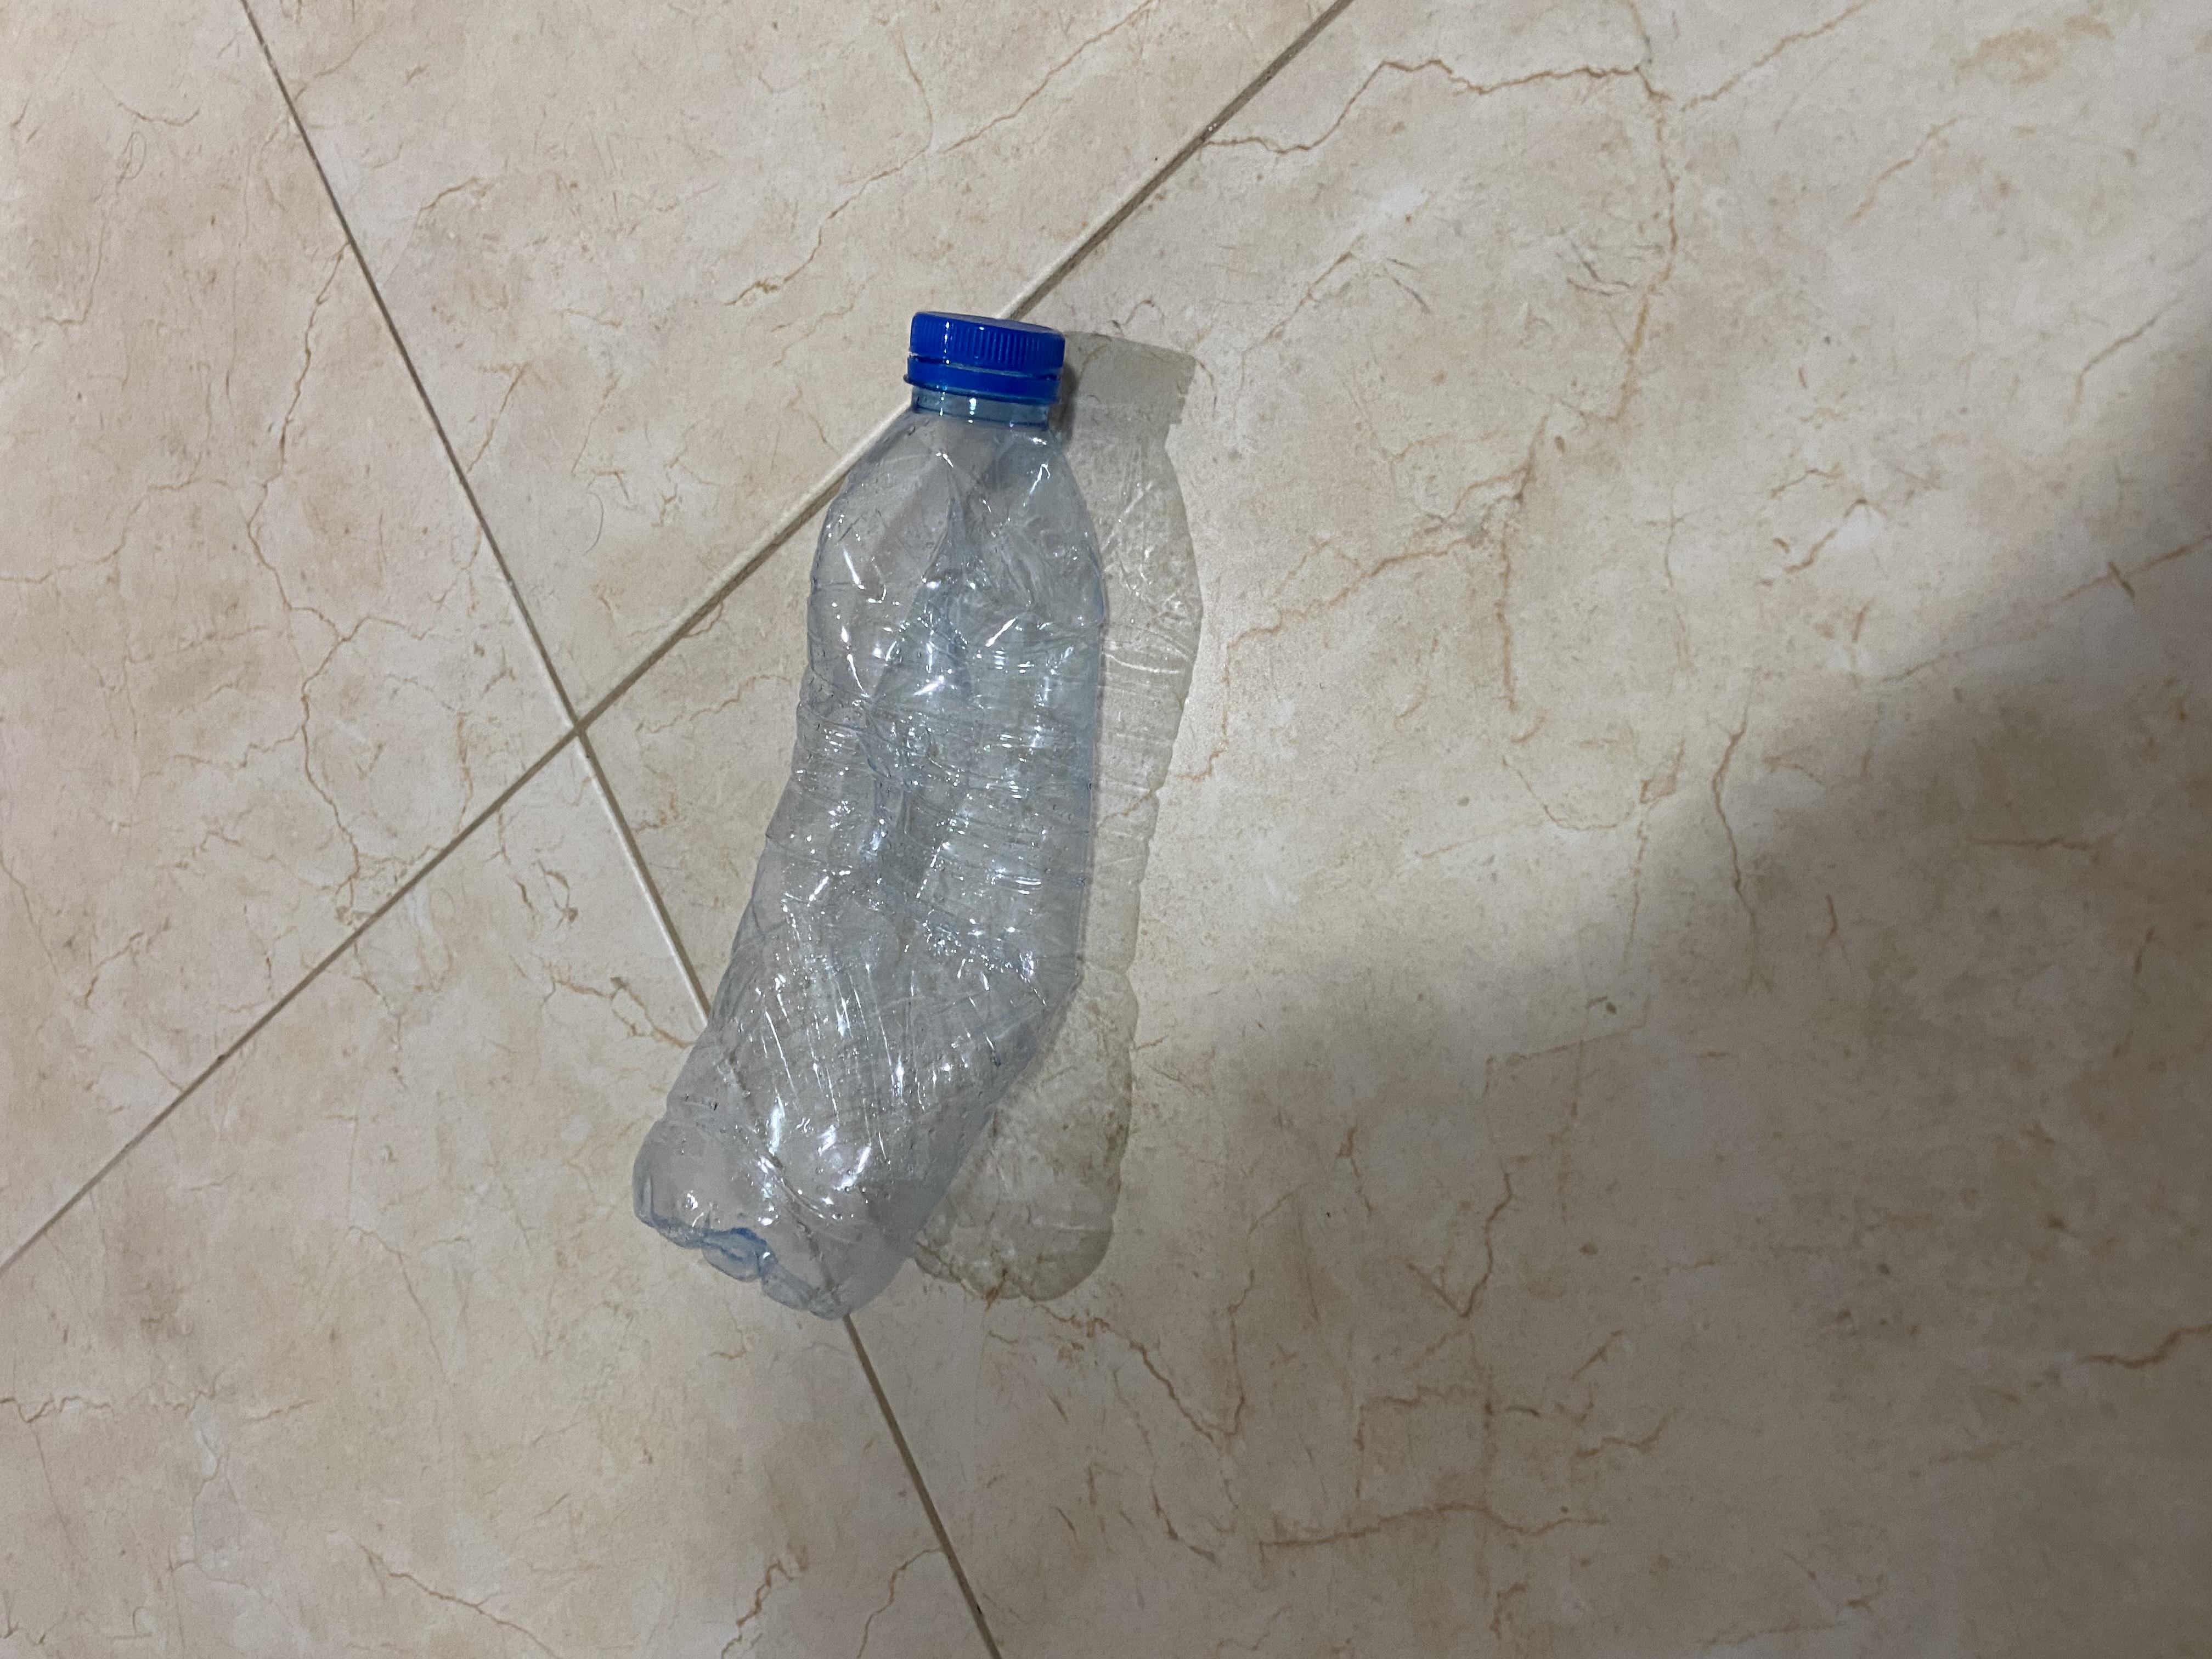bottle: (420, 450, 1815, 831)
